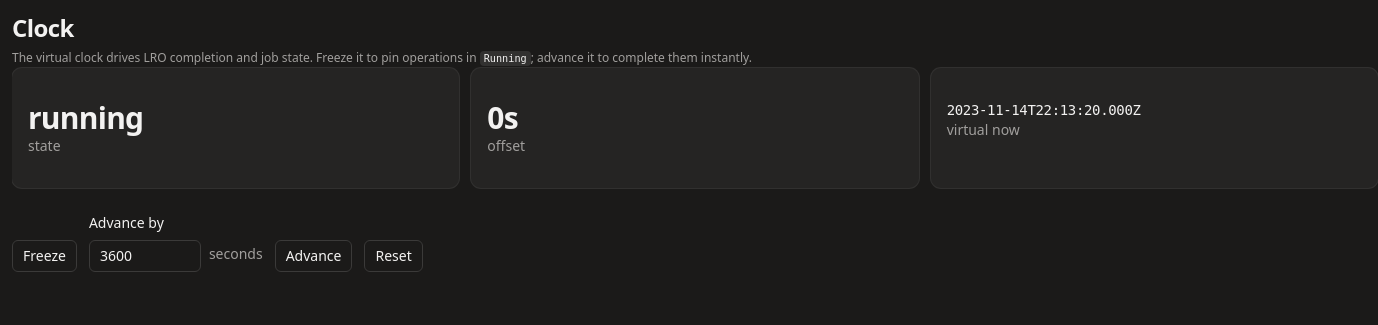
Test: Clock › surfaces a failed mutation without losing the clock it is showing
The image size is (1378, 325).
Check: the text "running" is shown, box [28,97,143,138]
Click the button "Freeze": (44, 256) [12,240,77,272]
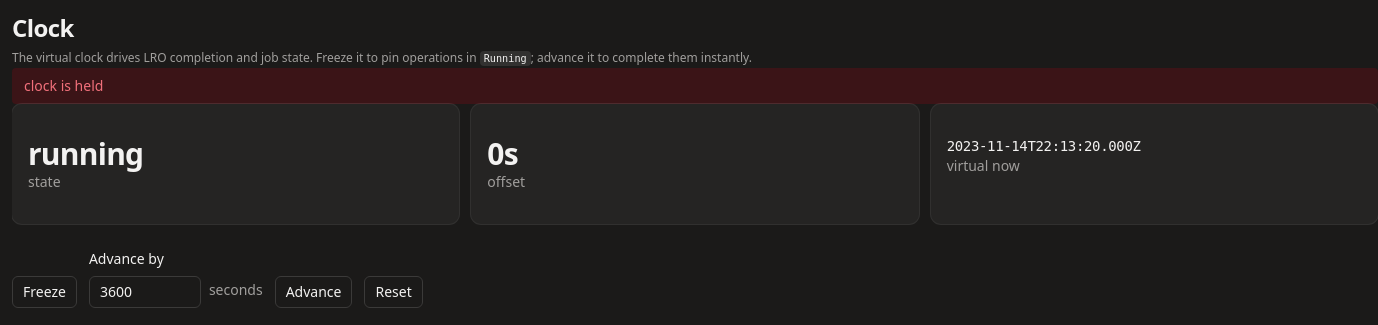
Check: the text "running" is shown, box [28,133,143,174]
Check: the text "clock is held" is shown, box [12,68,1377,104]
